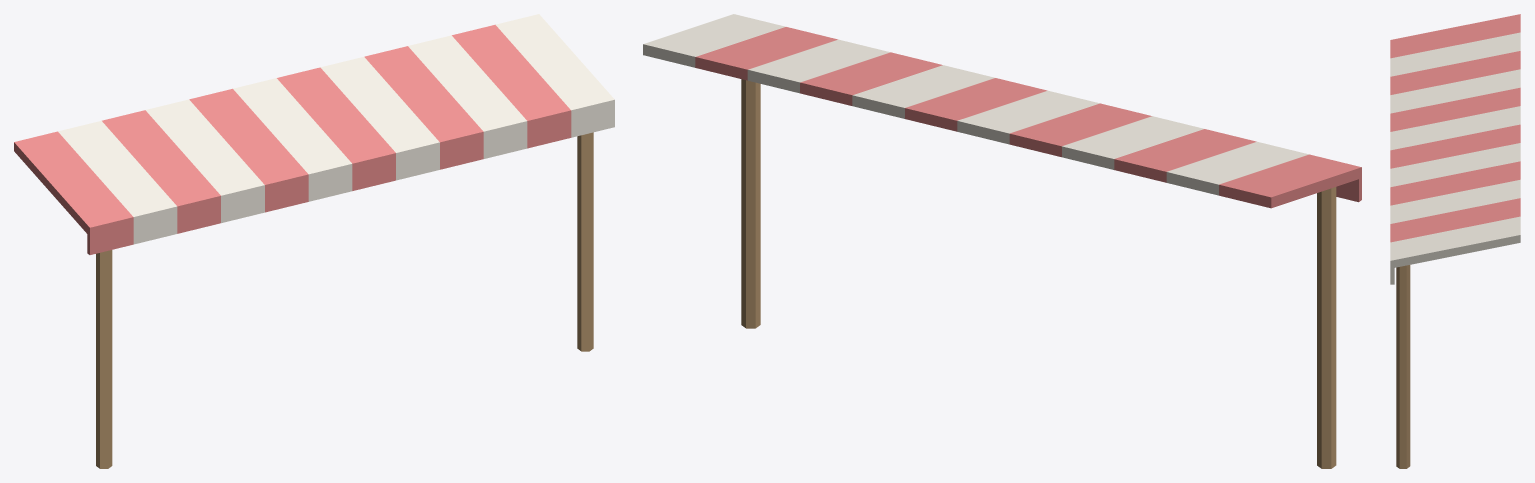
File: awning_w6_0.glb
The picture shows the model from 3 angles, left to right: view 1: azimuth 30°, elevation 25°; view 2: azimuth 150°, elevation 25°; view 3: azimuth 270°, elevation 25°; orthographic projection. The views are drawn at different scales.
Visible parts, largest first — view 1: Player; view 2: Player; view 3: Player.
Part boxes in pixels (left/top/right/bottom): Player: left=14, top=14, right=614, bottom=468; Player: left=643, top=14, right=1361, bottom=468; Player: left=1390, top=14, right=1520, bottom=468.
Size of the model in its own units: 6 by 3.05 by 1.5.
